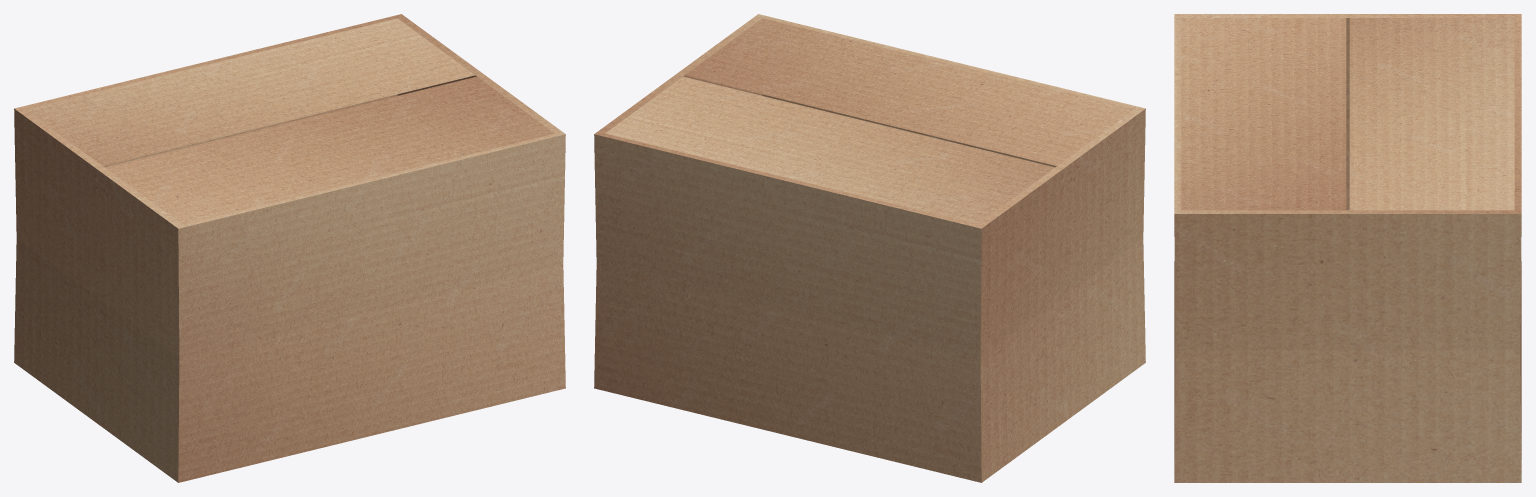
Rendered from CARDBOARD BOX 1.fbx.
3 views of the same model, side by side, from view 1: azimuth 30°, elevation 25°; view 2: azimuth 150°, elevation 25°; view 3: azimuth 270°, elevation 25° (orthographic). The views are drawn at different scales.
Visible parts, largest first — view 1: CARDBOARD BOX 1; view 2: CARDBOARD BOX 1; view 3: CARDBOARD BOX 1.
Part boxes in pixels (bbox=[...]): CARDBOARD BOX 1: bbox=[14, 14, 565, 482]; CARDBOARD BOX 1: bbox=[594, 14, 1145, 482]; CARDBOARD BOX 1: bbox=[1174, 14, 1521, 482].
Size of the model in its own units: 0.6785 by 0.4982 by 0.4254.
